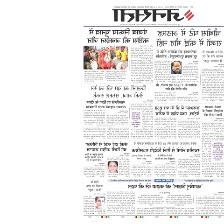news_paper: (81, 4, 224, 223)
